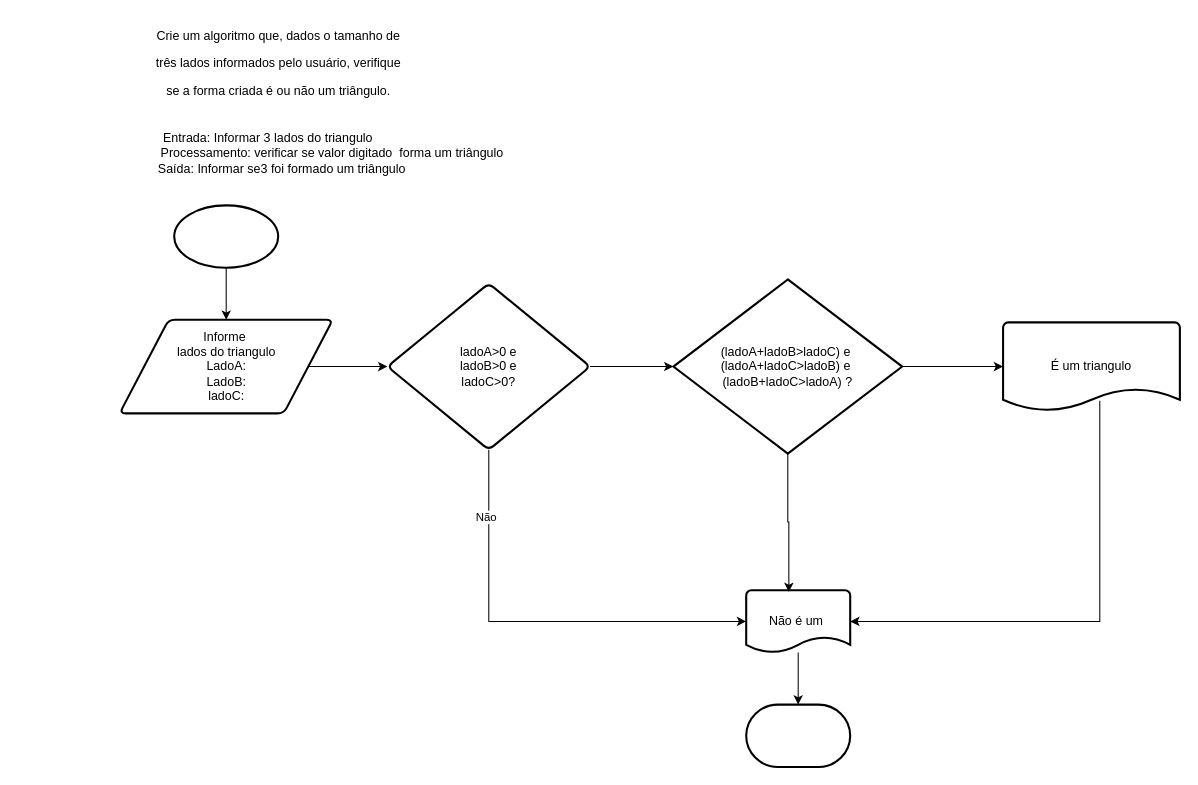
This 1198x785 diagram has some shape labels left out. Each missing label, with the box of its shape:
Fim: (745, 703, 851, 768)
Início: (173, 204, 279, 268)
